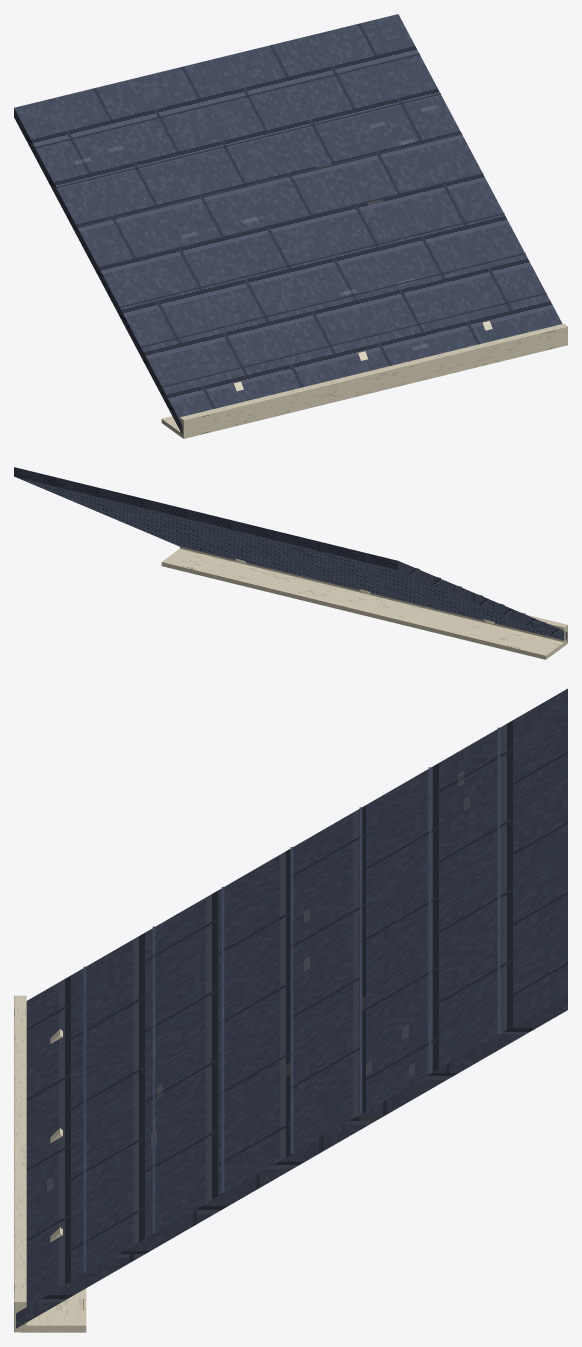
The model's file is house_02_roof_slope.glb.
3 views of the same model, one above another, from view 1: azimuth 30°, elevation 25°; view 2: azimuth 150°, elevation 25°; view 3: azimuth 270°, elevation 25° (orthographic). The views are drawn at different scales.
Parts seen in each view (by area): view 1: house_02_roof_slope; view 2: house_02_roof_slope; view 3: house_02_roof_slope.
Part boxes in pixels (x1=…): house_02_roof_slope: x1=14, y1=14, x2=567, y2=438; house_02_roof_slope: x1=14, y1=467, x2=567, y2=659; house_02_roof_slope: x1=14, y1=688, x2=567, y2=1332.
Bounding box in the file's own units: 3.4 × 1.75 × 2.6.
3 materials, 3 textured.
